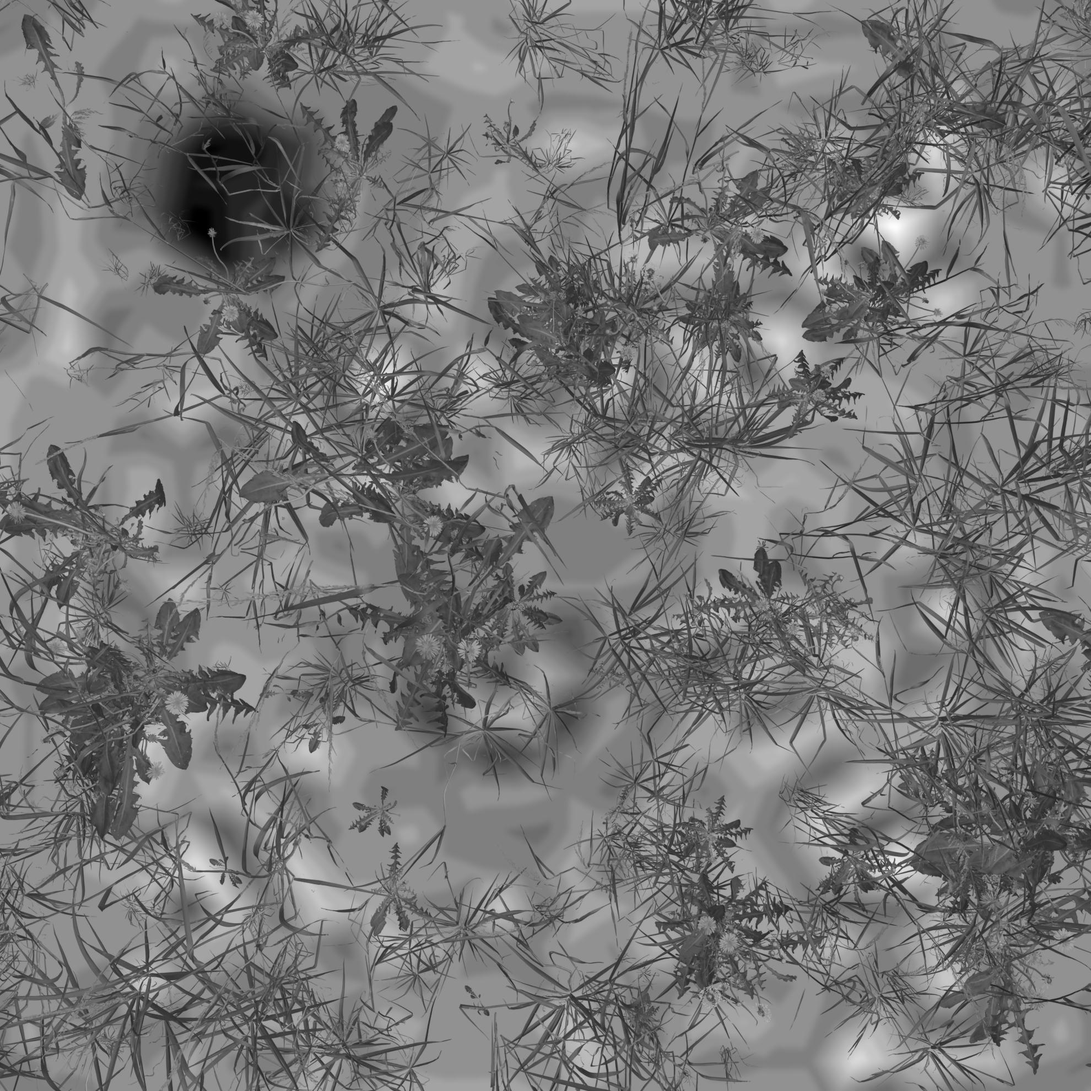landmine: (146, 110, 311, 269)
